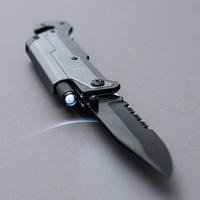knife: (23, 14, 175, 179)
